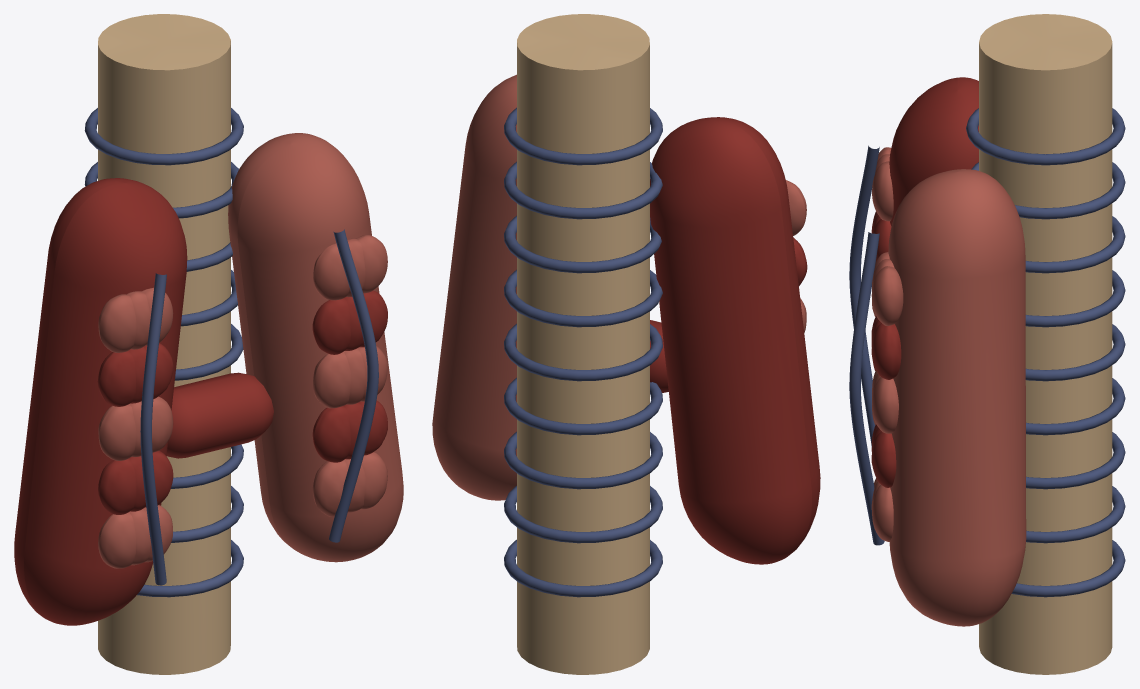
File: thyroid.f986ff44.glb
The picture shows the model from 3 angles, left to right: view 1: azimuth 30°, elevation 25°; view 2: azimuth 150°, elevation 25°; view 3: azimuth 270°, elevation 25°; orthographic projection.
Parts seen in each view (by area): view 1: procedural-thyroid-surface-1, procedural-thyroid-surface-11, procedural-thyroid-surface-12, procedural-thyroid-surface-13, procedural-thyroid-surface-45, procedural-thyroid-surface-29, procedural-thyroid-surface-10, procedural-thyroid-surface-28, procedural-thyroid-surface-36, procedural-thyroid-surface-25, procedural-thyroid-surface-19, procedural-thyroid-surface-33 (+24 smaller); view 2: procedural-thyroid-surface-1, procedural-thyroid-surface-11, procedural-thyroid-surface-12, procedural-thyroid-surface-6, procedural-thyroid-surface-10, procedural-thyroid-surface-2, procedural-thyroid-surface-3, procedural-thyroid-surface-4, procedural-thyroid-surface-5, procedural-thyroid-surface-7, procedural-thyroid-surface-9, procedural-thyroid-surface-8 (+2 smaller); view 3: procedural-thyroid-surface-1, procedural-thyroid-surface-12, procedural-thyroid-surface-11, procedural-thyroid-surface-45, procedural-thyroid-surface-29, procedural-thyroid-surface-10, procedural-thyroid-surface-9, procedural-thyroid-surface-2, procedural-thyroid-surface-44, procedural-thyroid-surface-6, procedural-thyroid-surface-7, procedural-thyroid-surface-8 (+9 smaller).
Part boxes in pixels (bbox=[...]): procedural-thyroid-surface-1: bbox=[98, 14, 230, 674]; procedural-thyroid-surface-11: bbox=[14, 178, 187, 625]; procedural-thyroid-surface-12: bbox=[228, 133, 403, 562]; procedural-thyroid-surface-13: bbox=[166, 372, 273, 458]; procedural-thyroid-surface-45: bbox=[329, 229, 378, 542]; procedural-thyroid-surface-29: bbox=[140, 273, 166, 585]; procedural-thyroid-surface-10: bbox=[84, 108, 243, 165]; procedural-thyroid-surface-28: bbox=[98, 294, 136, 352]; procedural-thyroid-surface-36: bbox=[313, 351, 351, 408]; procedural-thyroid-surface-25: bbox=[97, 350, 136, 406]; procedural-thyroid-surface-19: bbox=[98, 458, 136, 514]; procedural-thyroid-surface-33: bbox=[312, 406, 350, 462]; procedural-thyroid-surface-1: bbox=[517, 14, 649, 674]; procedural-thyroid-surface-11: bbox=[650, 117, 820, 564]; procedural-thyroid-surface-12: bbox=[432, 74, 516, 500]; procedural-thyroid-surface-6: bbox=[504, 323, 662, 381]; procedural-thyroid-surface-10: bbox=[504, 107, 662, 165]; procedural-thyroid-surface-2: bbox=[504, 539, 662, 597]; procedural-thyroid-surface-3: bbox=[504, 485, 662, 543]; procedural-thyroid-surface-4: bbox=[504, 431, 662, 489]; procedural-thyroid-surface-5: bbox=[504, 377, 662, 435]; procedural-thyroid-surface-7: bbox=[504, 269, 662, 327]; procedural-thyroid-surface-9: bbox=[504, 161, 662, 219]; procedural-thyroid-surface-8: bbox=[504, 215, 661, 273]; procedural-thyroid-surface-1: bbox=[979, 14, 1112, 674]; procedural-thyroid-surface-12: bbox=[888, 169, 1026, 626]; procedural-thyroid-surface-11: bbox=[889, 77, 978, 225]; procedural-thyroid-surface-45: bbox=[849, 232, 884, 545]; procedural-thyroid-surface-29: bbox=[849, 145, 879, 447]; procedural-thyroid-surface-10: bbox=[966, 108, 1125, 165]; procedural-thyroid-surface-9: bbox=[971, 162, 1125, 219]; procedural-thyroid-surface-2: bbox=[1011, 540, 1125, 597]; procedural-thyroid-surface-44: bbox=[871, 266, 903, 325]; procedural-thyroid-surface-6: bbox=[1025, 324, 1125, 381]; procedural-thyroid-surface-7: bbox=[1025, 270, 1125, 327]; procedural-thyroid-surface-8: bbox=[1025, 216, 1125, 273].
Size of the model in its own units: 1.79 by 2.8 by 1.16.
